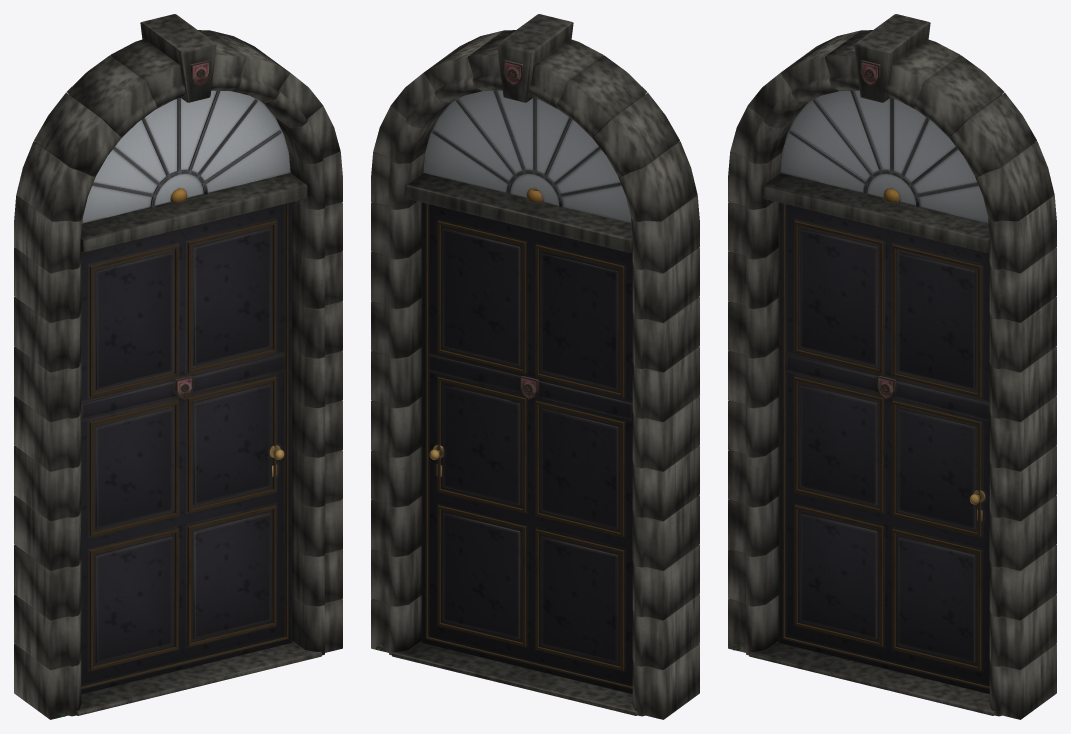
File: HeadmasterDoor.fbx
3 renders of one model, left to right at view 1: azimuth 30°, elevation 25°; view 2: azimuth 150°, elevation 25°; view 3: azimuth 330°, elevation 25°, orthographic.
Parts seen in each view (by area): view 1: HeadmasterDoor_Main, HeadmasterDoor_Leaf0, HeadmasterDoor_Glass; view 2: HeadmasterDoor_Main, HeadmasterDoor_Leaf0, HeadmasterDoor_Glass; view 3: HeadmasterDoor_Main, HeadmasterDoor_Leaf0, HeadmasterDoor_Glass.
Part boxes in pixels (x1,y1,x2,y2): HeadmasterDoor_Main: [14, 14, 342, 719]; HeadmasterDoor_Leaf0: [81, 202, 292, 693]; HeadmasterDoor_Glass: [82, 90, 290, 223]; HeadmasterDoor_Main: [371, 14, 699, 719]; HeadmasterDoor_Leaf0: [421, 202, 632, 693]; HeadmasterDoor_Glass: [423, 90, 631, 223]; HeadmasterDoor_Main: [728, 14, 1056, 719]; HeadmasterDoor_Leaf0: [778, 202, 989, 693]; HeadmasterDoor_Glass: [780, 90, 988, 223].
Bounding box in the file's own units: 549 × 1145 × 149.
